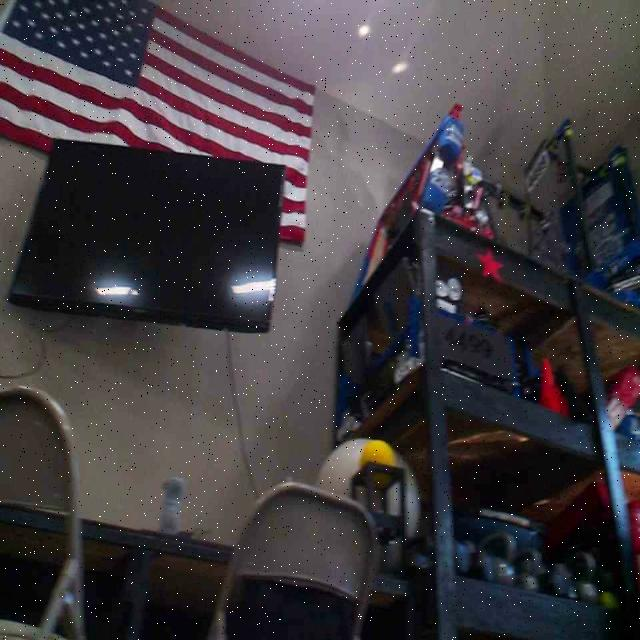star_red: (476, 247, 502, 281)
